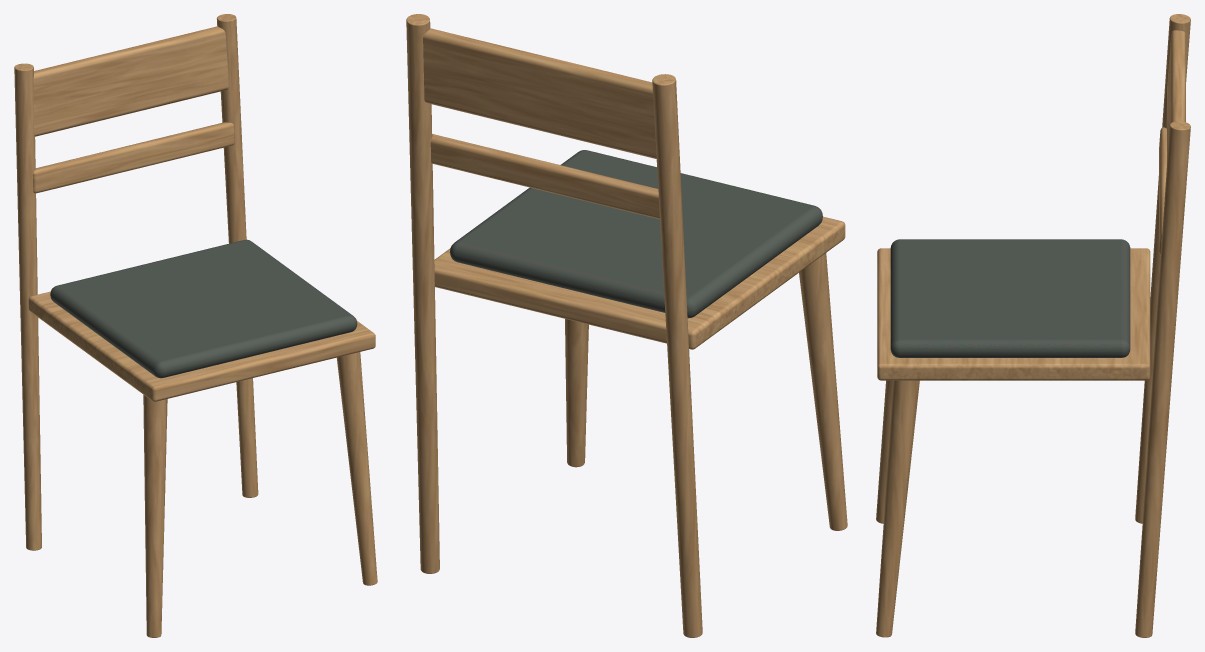
Rendered from dining_chair.glb.
3 views of the same model, side by side, from view 1: azimuth 30°, elevation 25°; view 2: azimuth 150°, elevation 25°; view 3: azimuth 270°, elevation 25° (orthographic). The views are drawn at different scales.
Visible parts, largest first — view 1: Cube; view 2: Cube; view 3: Cube.
Part boxes in pixels (x1=…): Cube: x1=14, y1=14, x2=377, y2=637; Cube: x1=406, y1=14, x2=847, y2=637; Cube: x1=876, y1=14, x2=1190, y2=637.
Size of the model in its own units: 0.4319 by 0.84 by 0.4727.
Materials: 1 (1 with a texture image).
